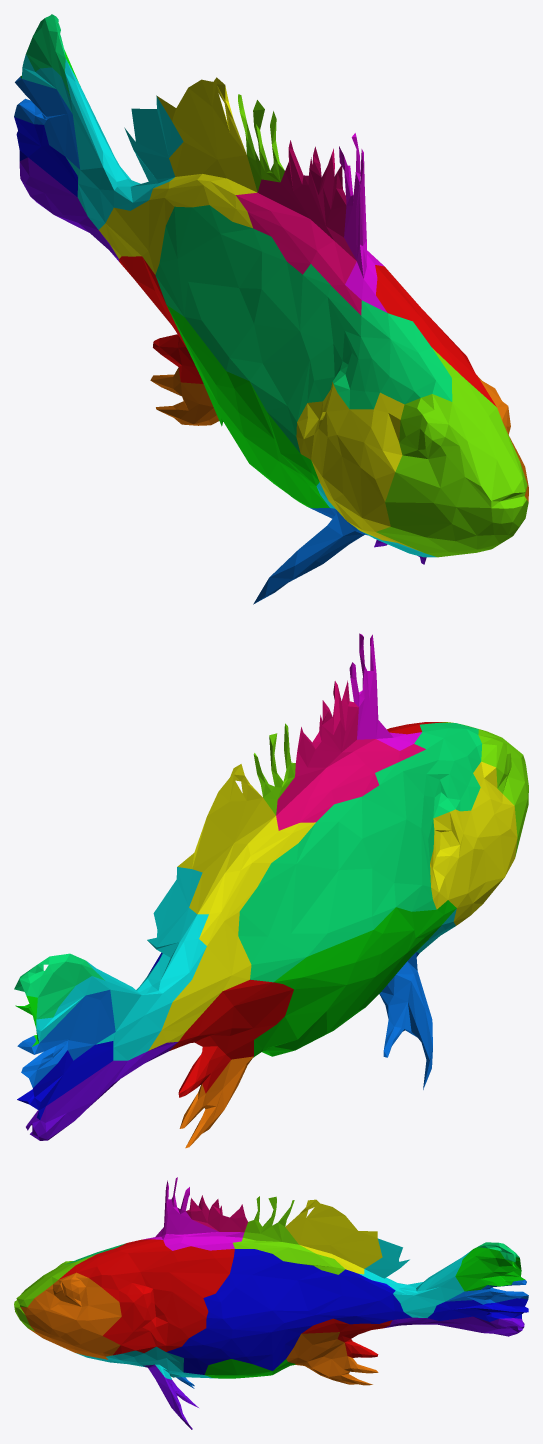
The model's file is boguchi_nanite_LOD1.fbx.
3 views of the same model, one above another, from view 1: azimuth 30°, elevation 25°; view 2: azimuth 150°, elevation 25°; view 3: azimuth 270°, elevation 25° (orthographic). The views are drawn at different scales.
Size of the model in its own units: 0.1898 by 0.4996 by 0.9999.
